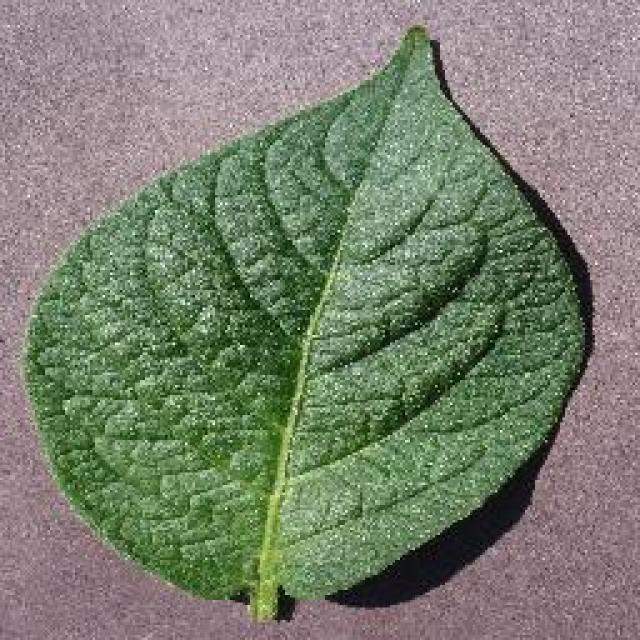healthy: (15, 23, 597, 625)
